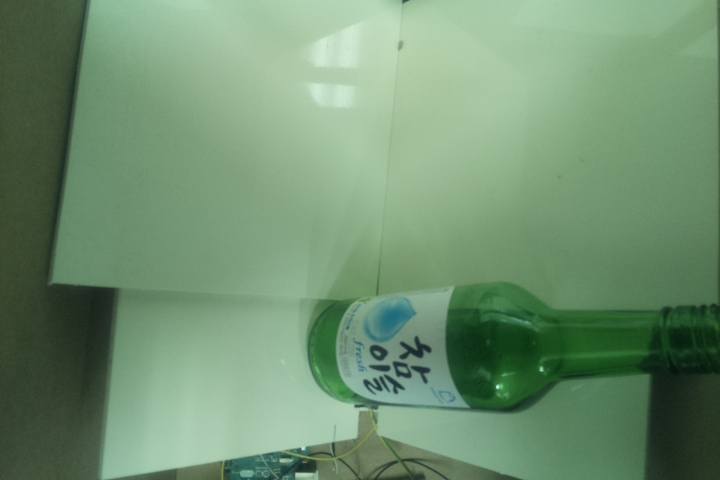soju: (308, 278, 720, 414)
